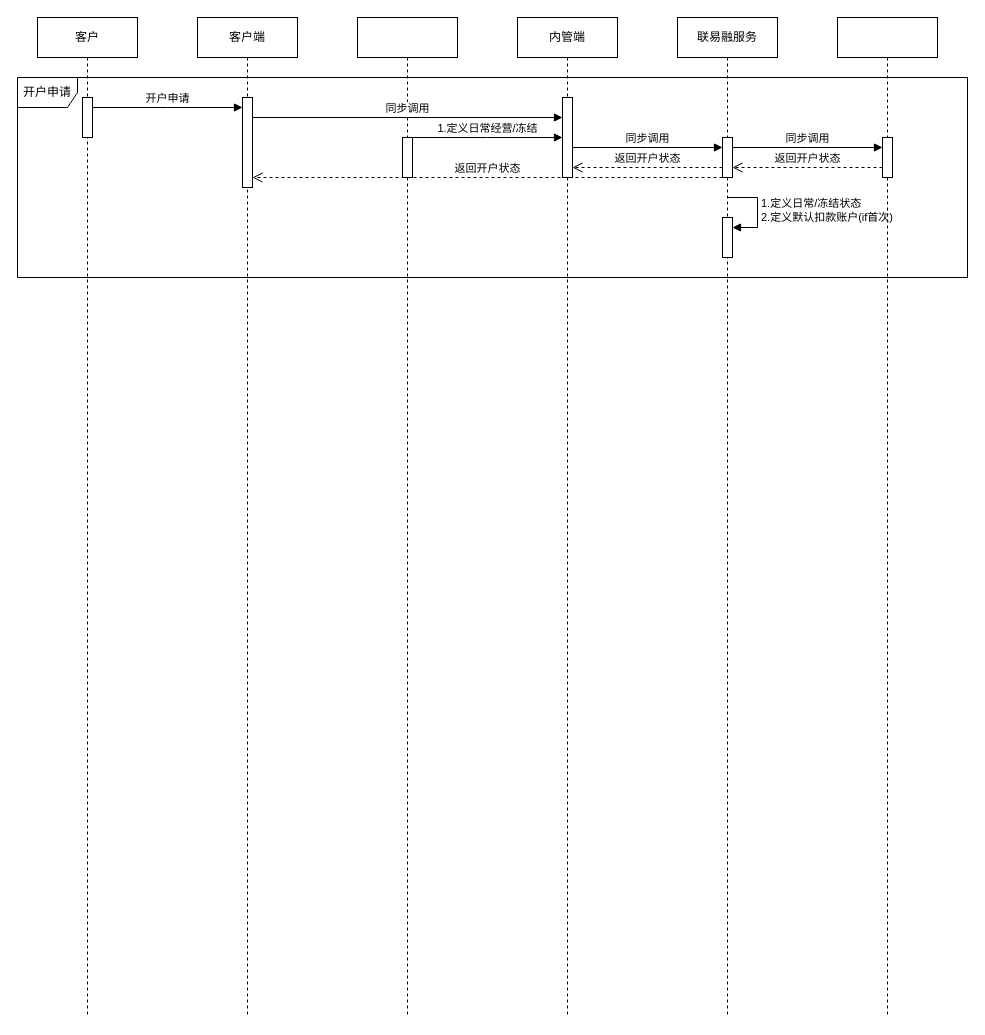
The diagram is 985 pixels wide and 1035 high, and some of its shapes have lost their labels. Each missing label, with the box of its shape:
渣打: (836, 16, 938, 1018)
芷悦/健宇: (356, 16, 458, 1018)
